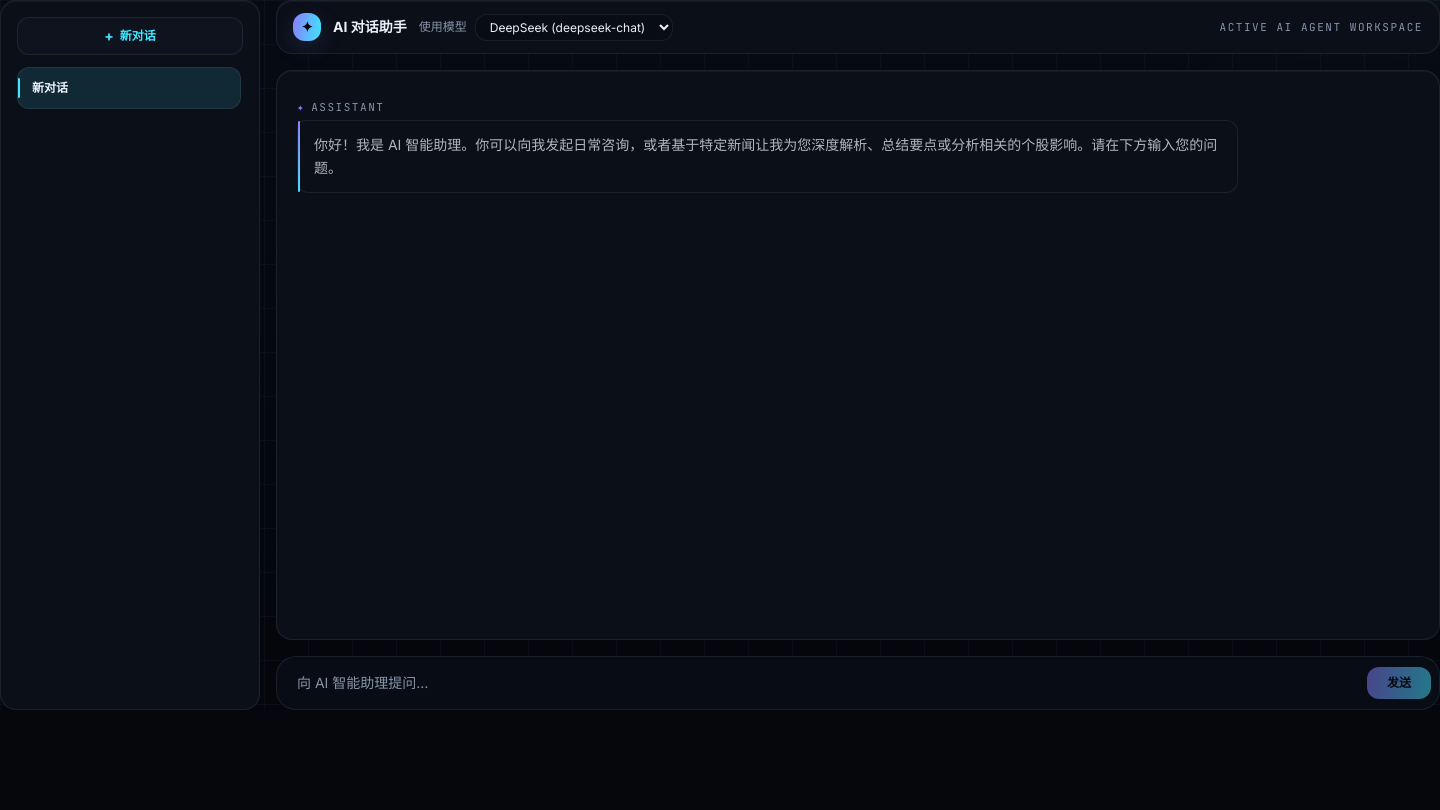
Test: ChatView › sends a message and streams the assistant reply into the message list
Type "你好 AI" into the field with placeholder "向 AI 智能助理提问…" at (822, 683), box left=285, top=665, right=1359, bottom=701
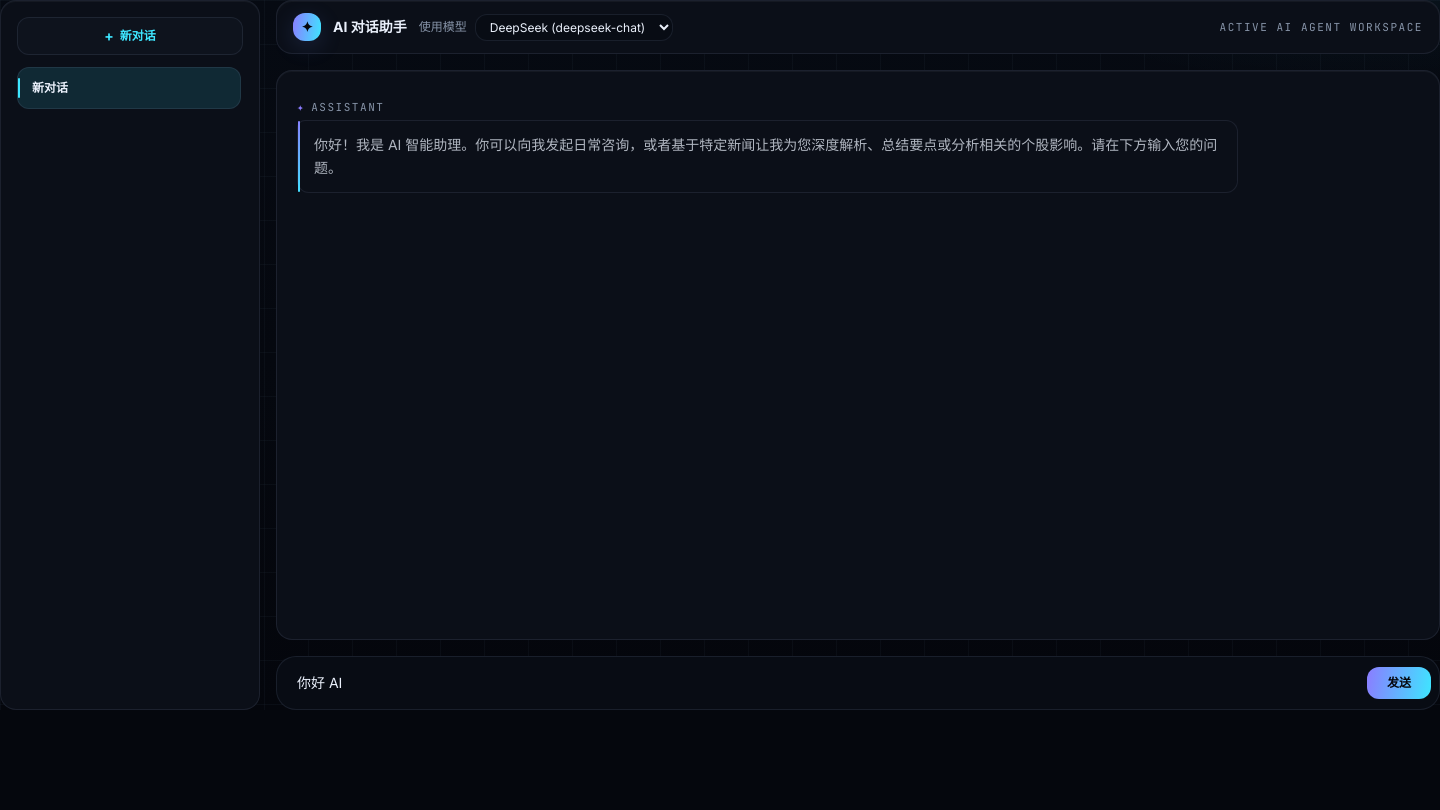
Submit the form, box left=276, top=656, right=1439, bottom=710
Wait 2000 ms
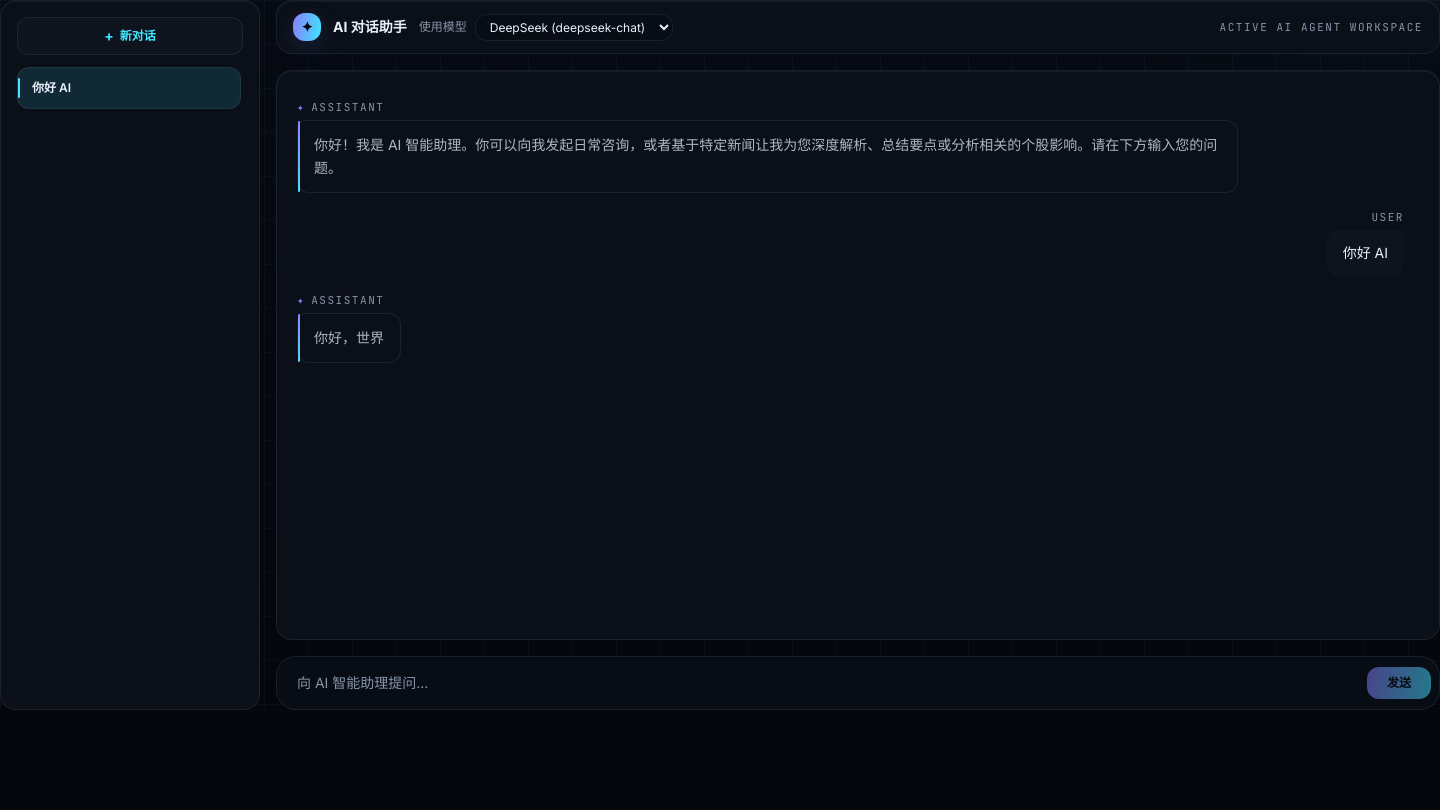
Expected: the text "你好 AI" is shown, left=32, top=80, right=71, bottom=95
Expected: the text "你好，世界" is shown, left=314, top=326, right=384, bottom=350
